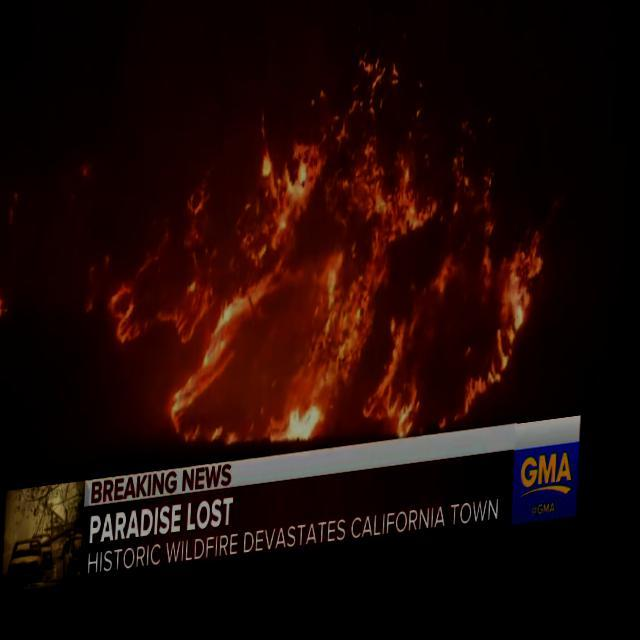Fire: (118, 116, 552, 468), (310, 44, 434, 140), (0, 284, 16, 321)
